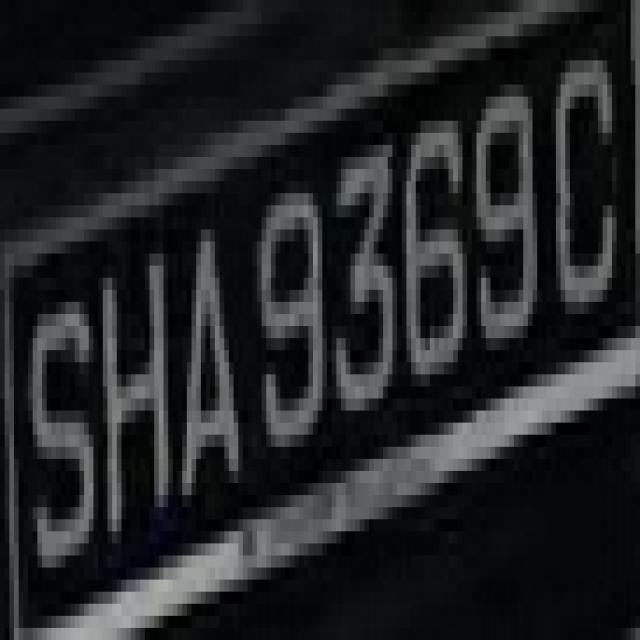3: (322, 84, 402, 410)
6: (388, 72, 462, 398)
9: (252, 157, 332, 483), (467, 61, 547, 387)
A: (164, 169, 238, 556)
C: (546, 0, 630, 362)
H: (84, 218, 178, 556)
S: (14, 253, 98, 616)
